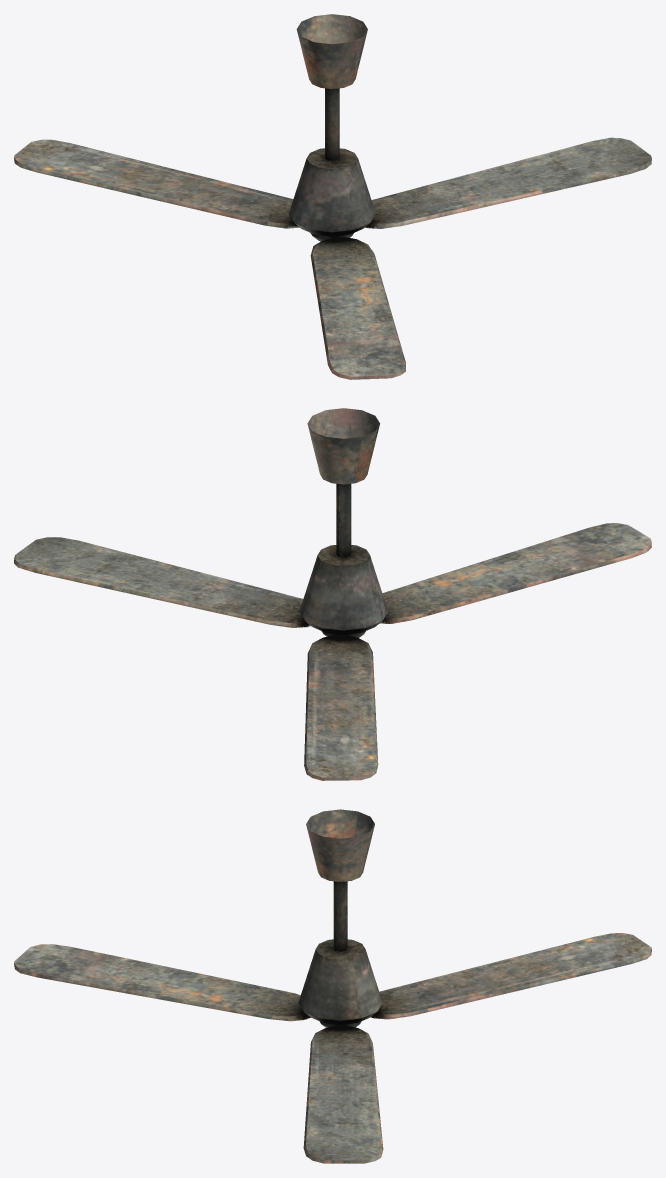
File: CeilingFan.FBX
3 renders of one model, top to bottom at view 1: azimuth 30°, elevation 25°; view 2: azimuth 150°, elevation 25°; view 3: azimuth 270°, elevation 25°, orthographic. The views are drawn at different scales.
Visible parts, largest first — view 1: Ceiling_Fan; view 2: Ceiling_Fan; view 3: Ceiling_Fan.
Part boxes in pixels (bbox=[...]): Ceiling_Fan: bbox=[14, 14, 651, 379]; Ceiling_Fan: bbox=[14, 408, 651, 780]; Ceiling_Fan: bbox=[14, 809, 651, 1163].
Bounding box in the file's own units: 111 × 45.79 × 131.
